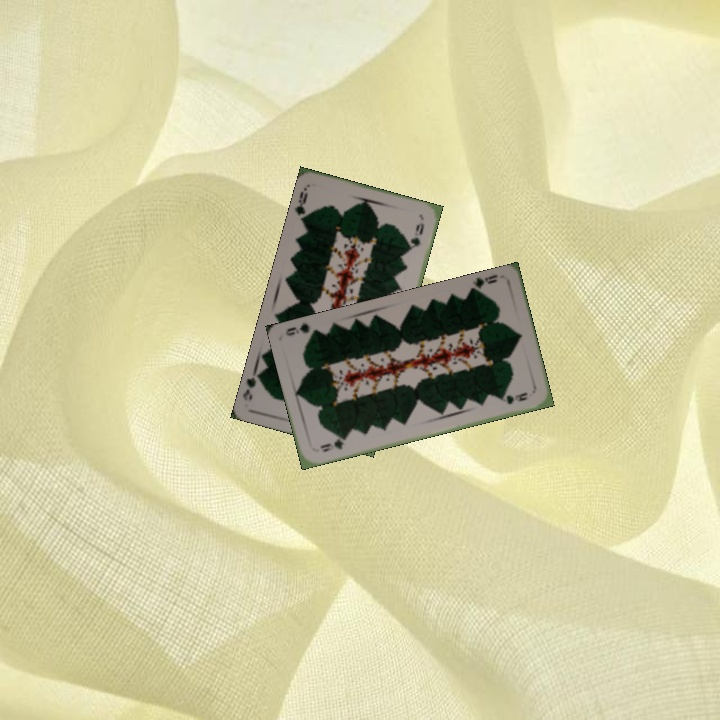G9: (466, 270, 500, 295), (291, 183, 311, 225), (315, 433, 351, 454)
